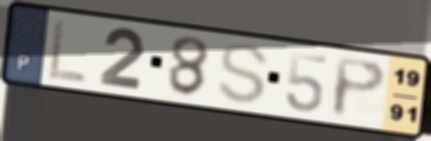2: (97, 25, 149, 94)
5: (283, 49, 329, 114)
8: (166, 34, 211, 100)
L: (46, 16, 90, 85)
P: (330, 54, 390, 121)
S: (215, 41, 272, 107)
